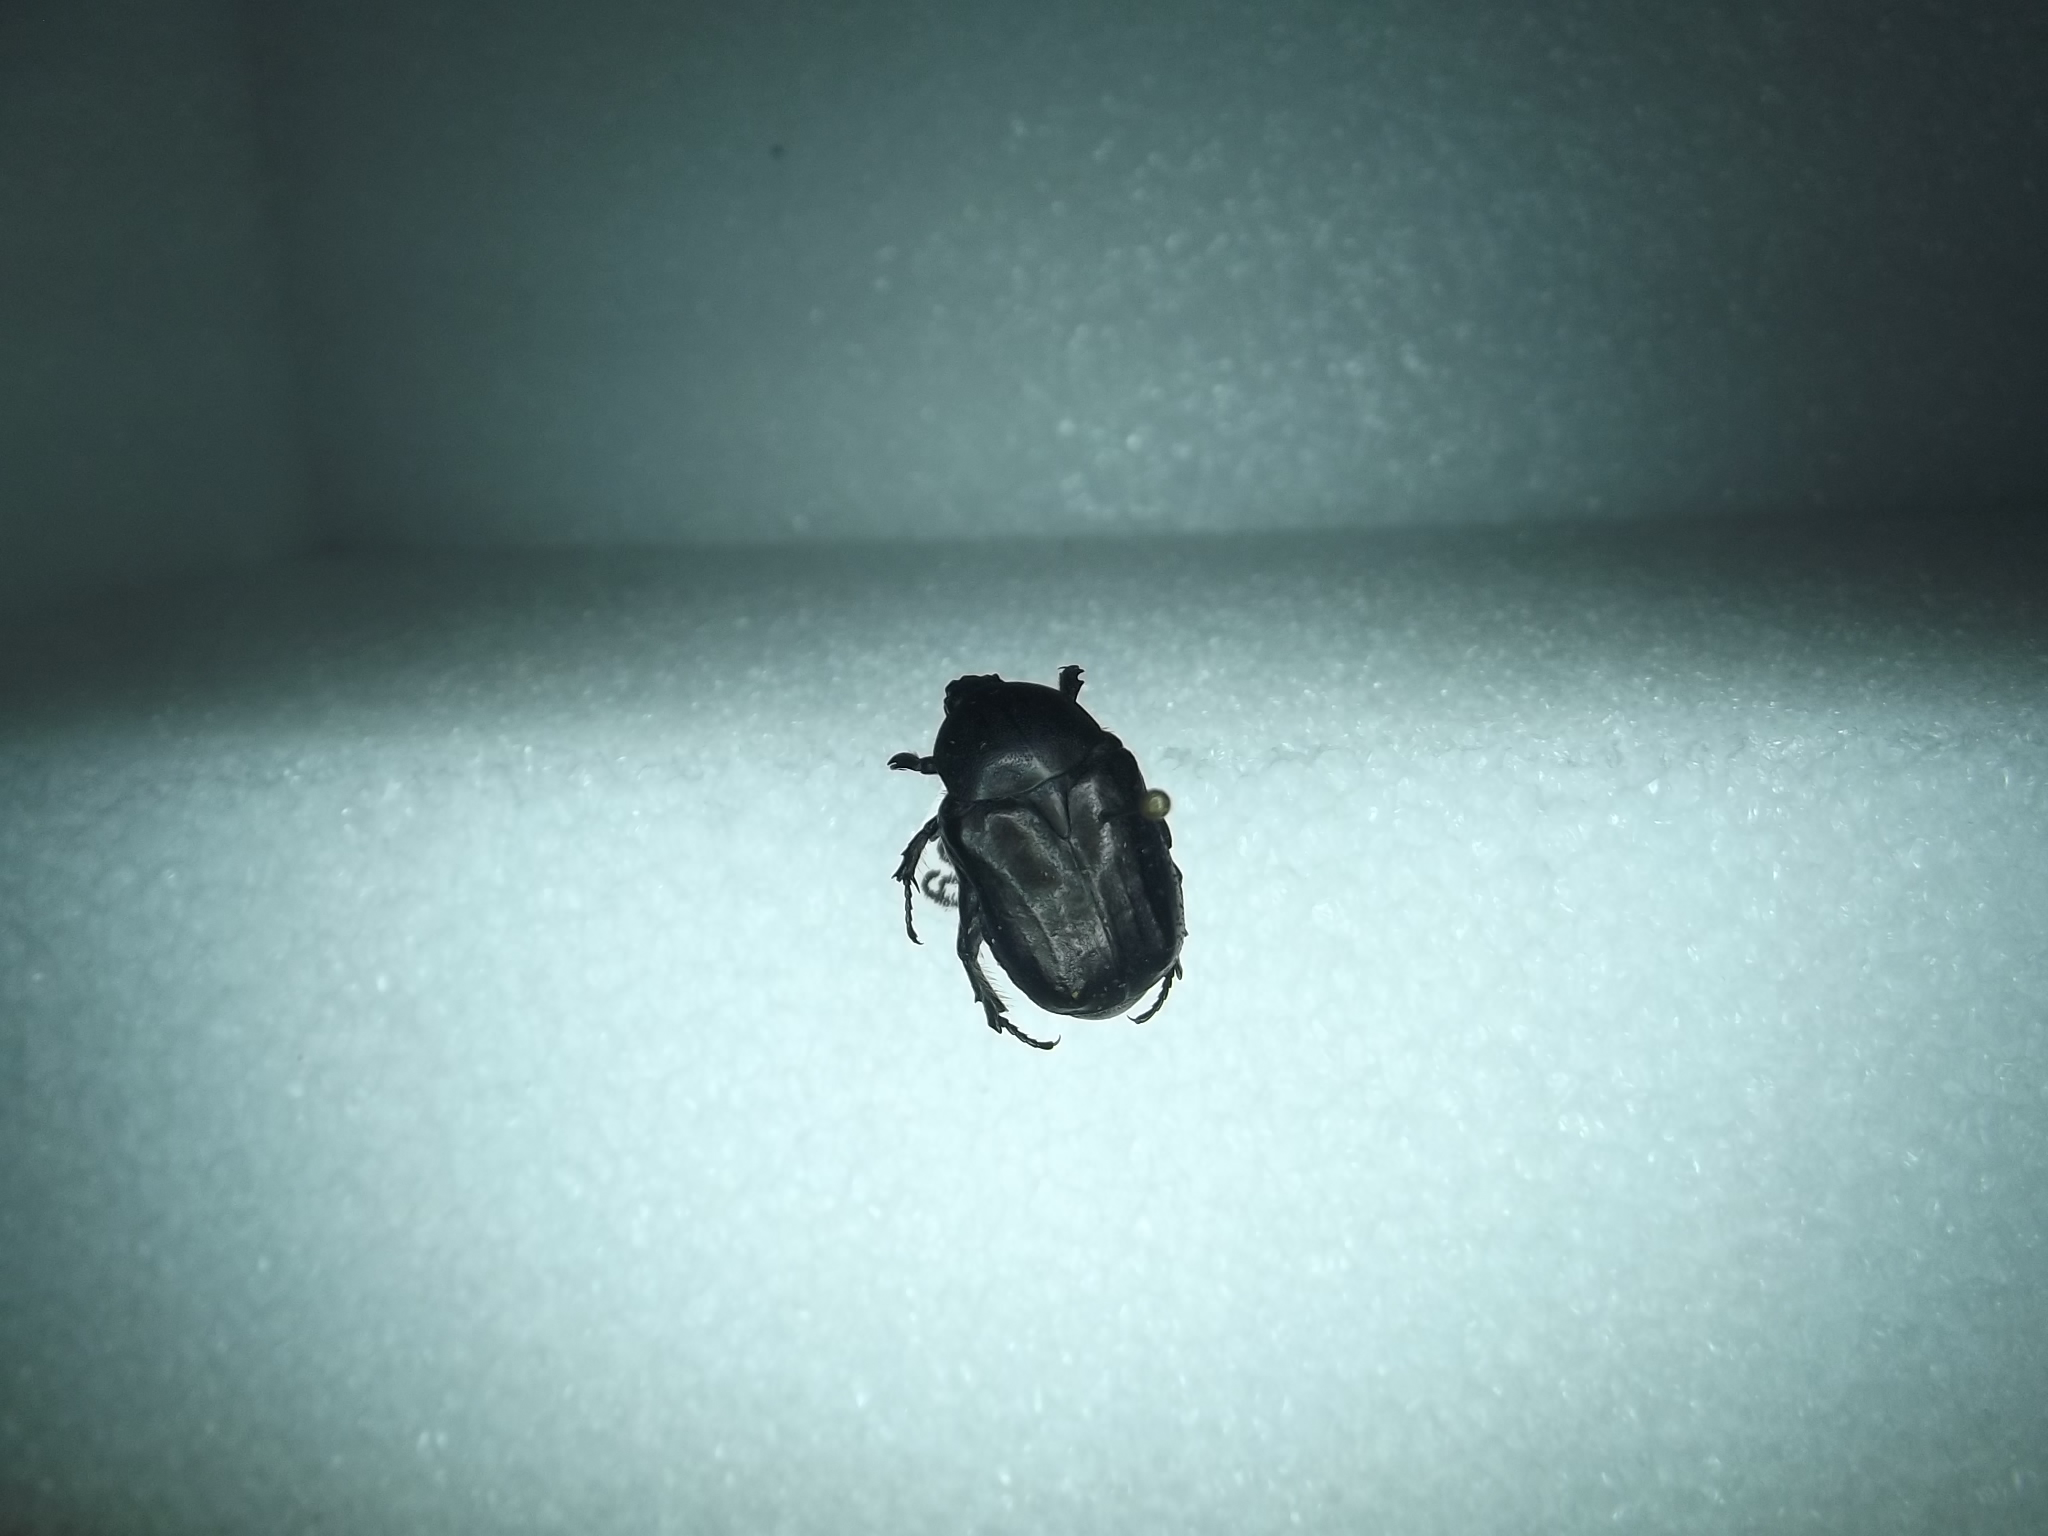Protaetia_vidua: (884, 650, 1200, 1054)
